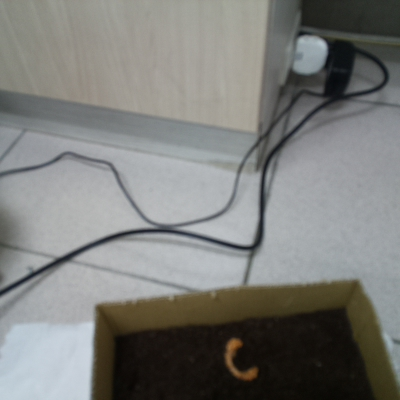eggs: (216, 332, 261, 384)
